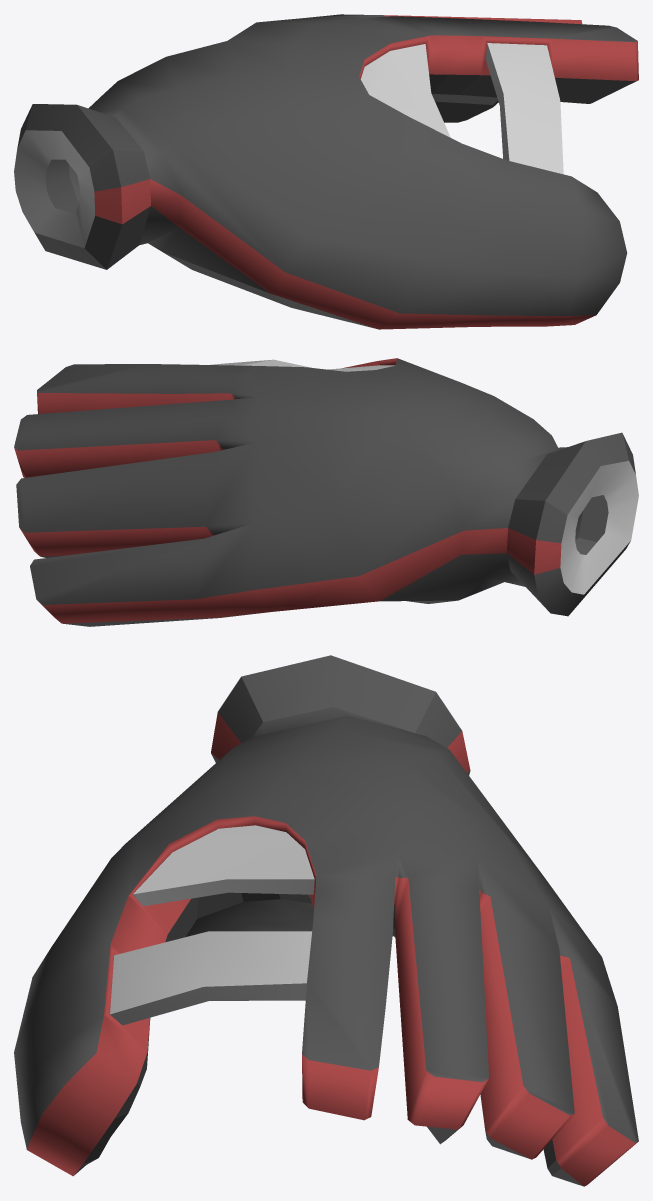
The model's file is Glove.fbx.
The picture shows the model from 3 angles, top to bottom: view 1: azimuth 30°, elevation 25°; view 2: azimuth 150°, elevation 25°; view 3: azimuth 270°, elevation 25°; orthographic projection. The views are drawn at different scales.
Parts seen in each view (by area): view 1: Glove; view 2: Glove; view 3: Glove.
Part boxes in pixels (x1,y1,x2,y2): Glove: (14,14,638,329); Glove: (14,358,638,626); Glove: (14,655,638,1186).
Size of the model in its own units: 73.12 by 29.04 by 56.42.
